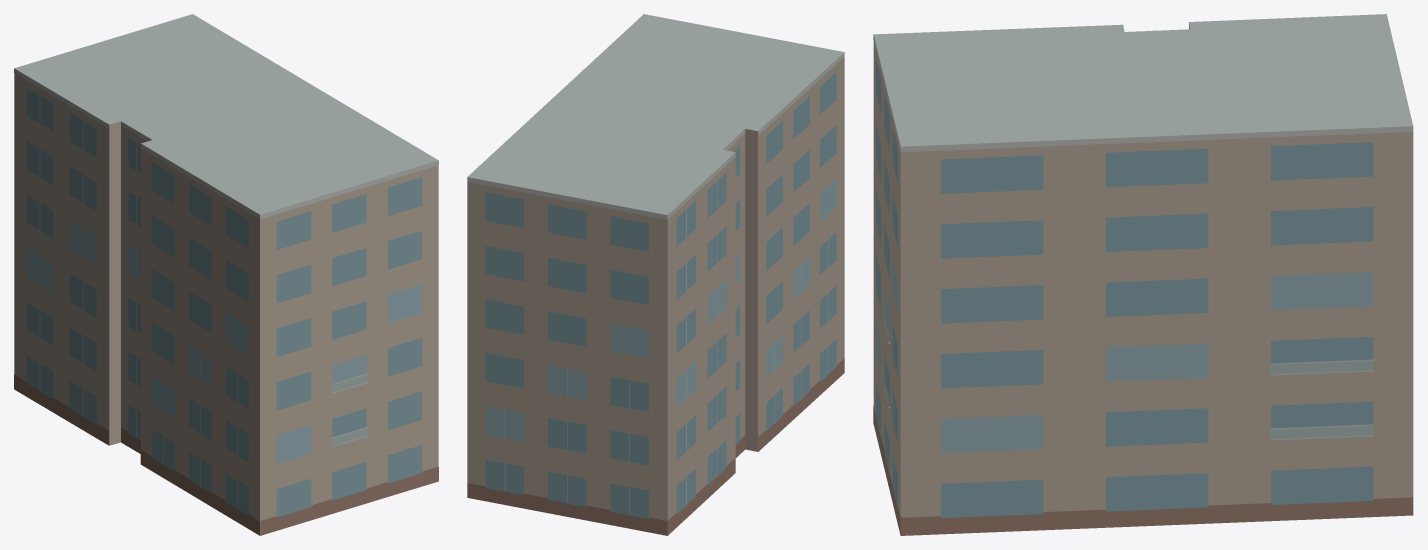
Rendered from survey-upis-33013867.glb.
3 views of the same model, side by side, from view 1: azimuth 30°, elevation 25°; view 2: azimuth 150°, elevation 25°; view 3: azimuth 270°, elevation 25° (orthographic). The views are drawn at different scales.
Visible parts, largest first — view 1: survey-upis-33013867.tmp; view 2: survey-upis-33013867.tmp; view 3: survey-upis-33013867.tmp.
Part boxes in pixels (bbox=[...]): survey-upis-33013867.tmp: bbox=[14, 14, 438, 535]; survey-upis-33013867.tmp: bbox=[467, 14, 844, 535]; survey-upis-33013867.tmp: bbox=[873, 14, 1413, 535].
Size of the model in its own units: 12.36 by 16.9 by 21.25.
